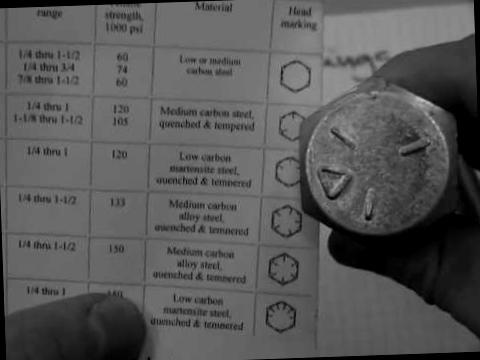hexagonal: (297, 80, 461, 246)
